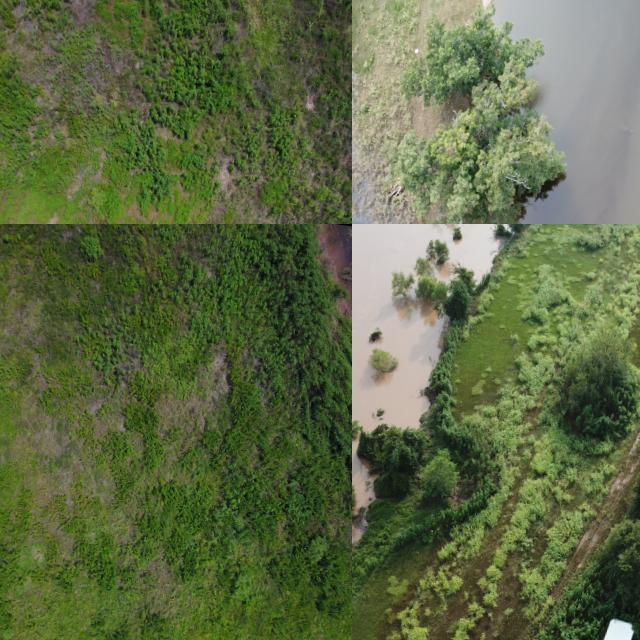fire: (495, 0, 640, 224), (352, 224, 500, 430)
